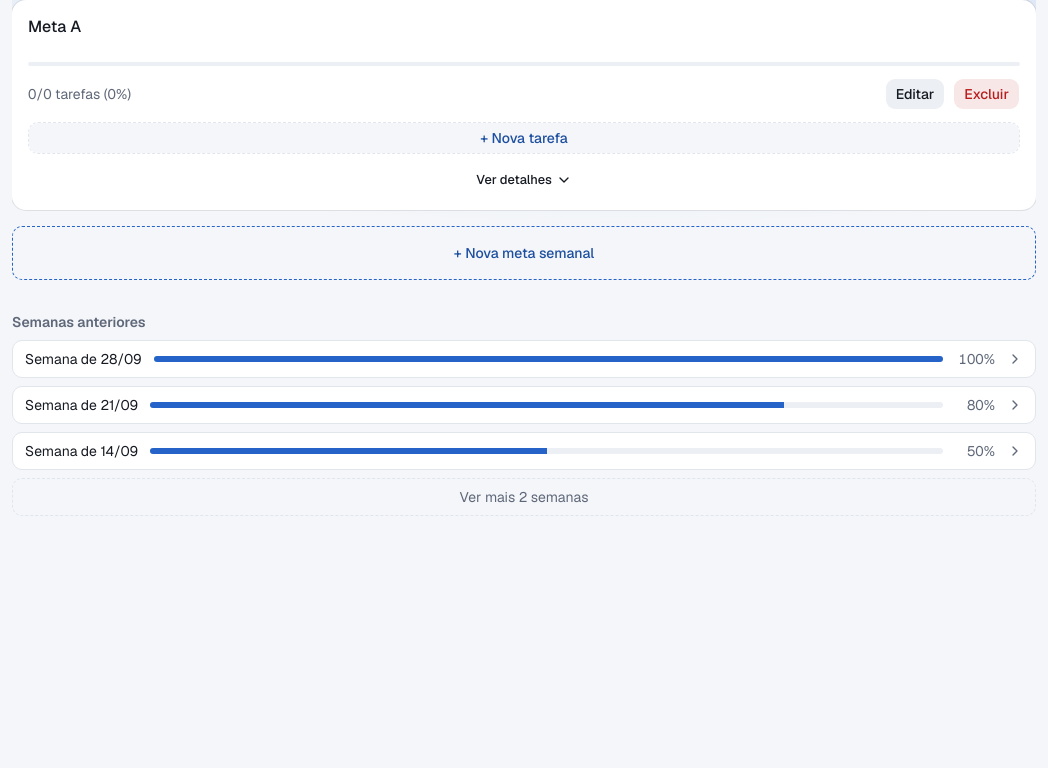
Test: WeeklyGoalsPanel › earlier weeks › shows the 3 most recent earlier weeks as rows and the rest behind "Ver mais"
This screenshot has width=1048, height=768.
Expected: the button "Semana de 28/09 100%" is shown, [12,340,1036,378]
Expected: the button "Semana de 14/09 50%" is shown, [12,432,1036,470]
Click the button "Ver mais 2 semanas" at (524, 497), box [12,478,1036,516]
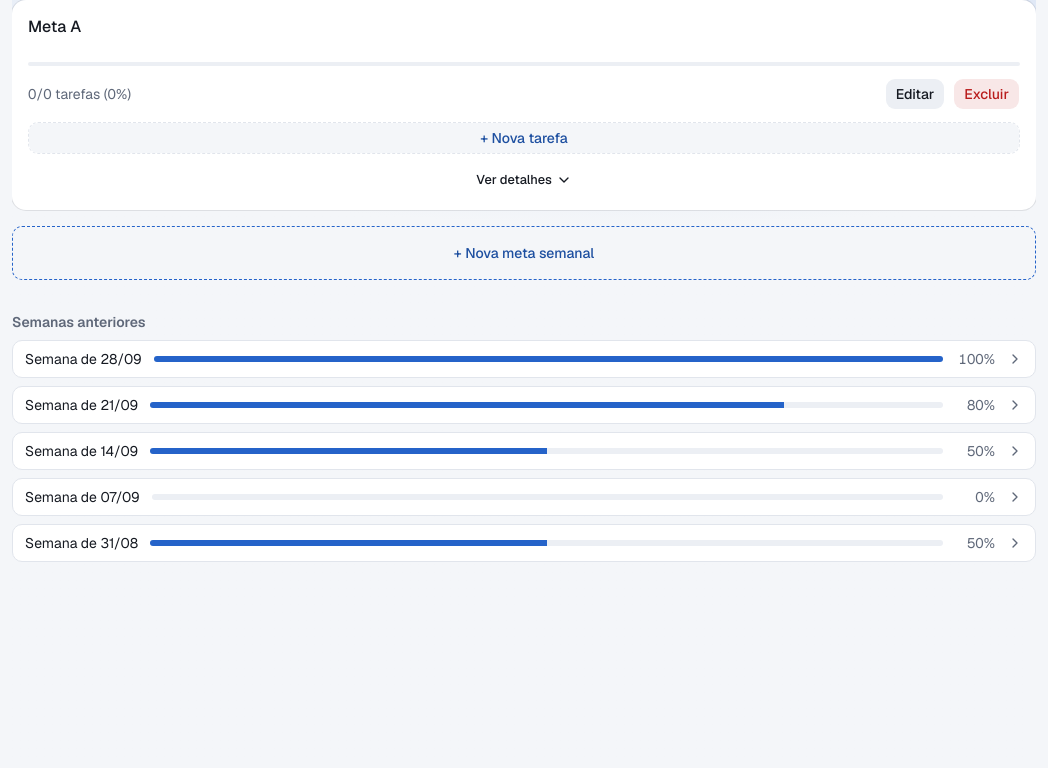
Expected: the button "Semana de 31/08 50%" is shown, [12,524,1036,562]
Expected: the button "Ver mais" is gone
